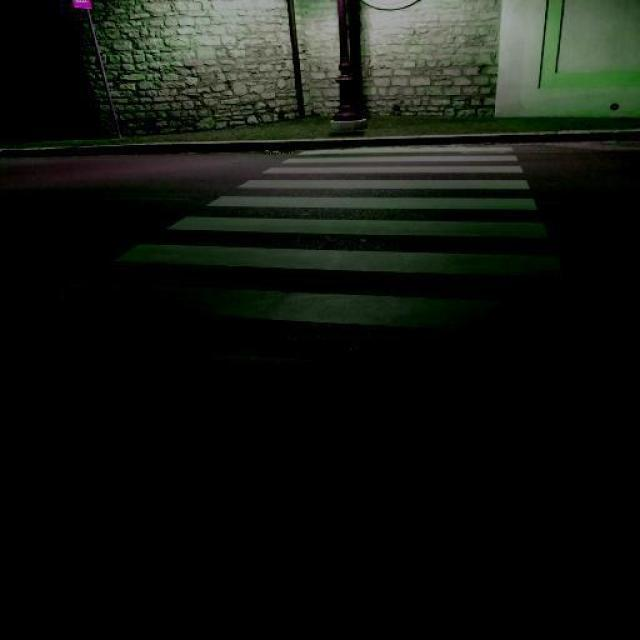crosswalk: (19, 141, 587, 376)
